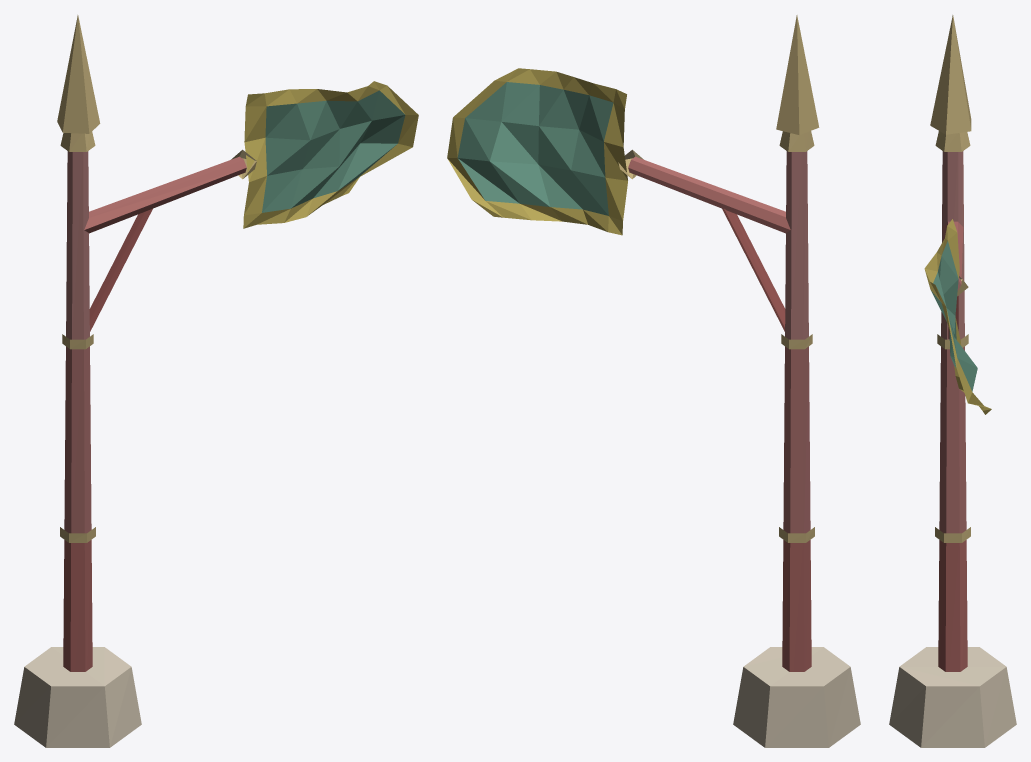
Rendered from flag.roundFly.cuiqi__pole.ground.miaogan__armFly.glb.
3 views of the same model, side by side, from view 1: azimuth 30°, elevation 25°; view 2: azimuth 150°, elevation 25°; view 3: azimuth 270°, elevation 25° (orthographic).
Parts seen in each view (by area): view 1: flag.roundFly.cuiqi; view 2: flag.roundFly.cuiqi; view 3: flag.roundFly.cuiqi.
Part boxes in pixels (<box>): flag.roundFly.cuiqi: <box>14,15,418,747</box>; flag.roundFly.cuiqi: <box>447,15,860,747</box>; flag.roundFly.cuiqi: <box>889,15,1016,747</box>.
Size of the model in its own units: 2.96 by 5.16 by 0.84.
